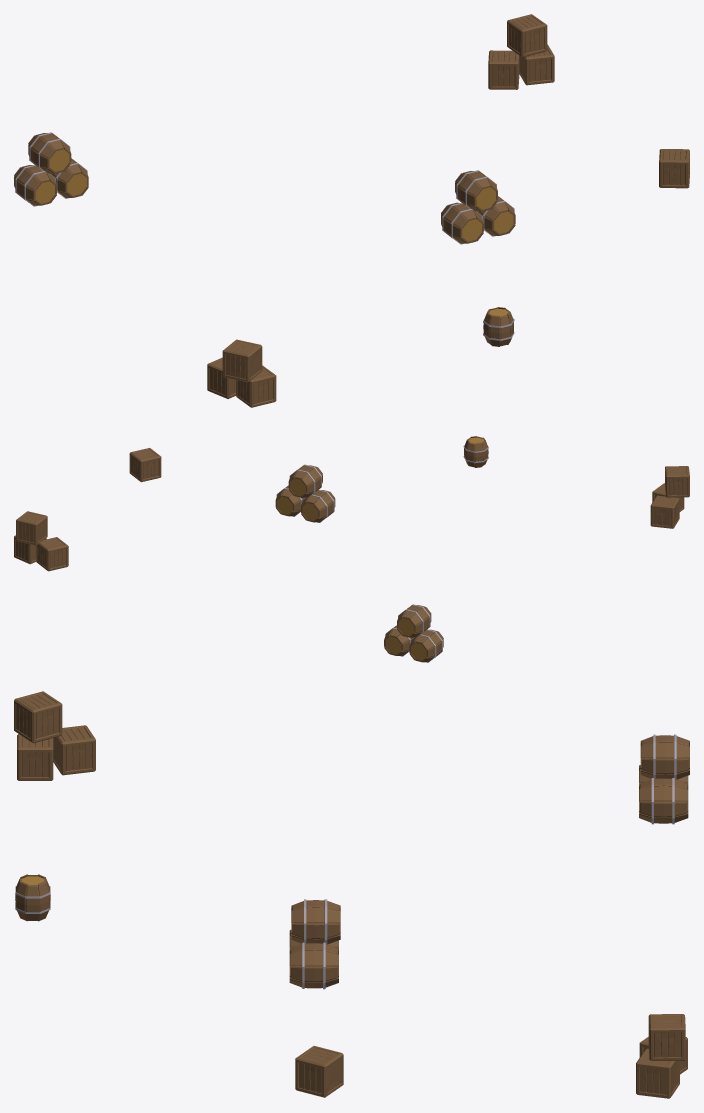
File: Map1inv_decor.fbx
The picture shows the model from 3 angles, top to bottom: view 1: azimuth 30°, elevation 25°; view 2: azimuth 150°, elevation 25°; view 3: azimuth 270°, elevation 25°; orthographic projection. The views are drawn at different scales.
Visible parts, largest first — view 1: Map 5 decor; view 2: Map 5 decor; view 3: Map 5 decor.
Part boxes in pixels (box(x1,y1,x2,y2)): Map 5 decor: box(14, 14, 689, 407); Map 5 decor: box(14, 436, 689, 662); Map 5 decor: box(14, 691, 689, 1098).
Size of the model in its own units: 4738 by 467 by 3945.
